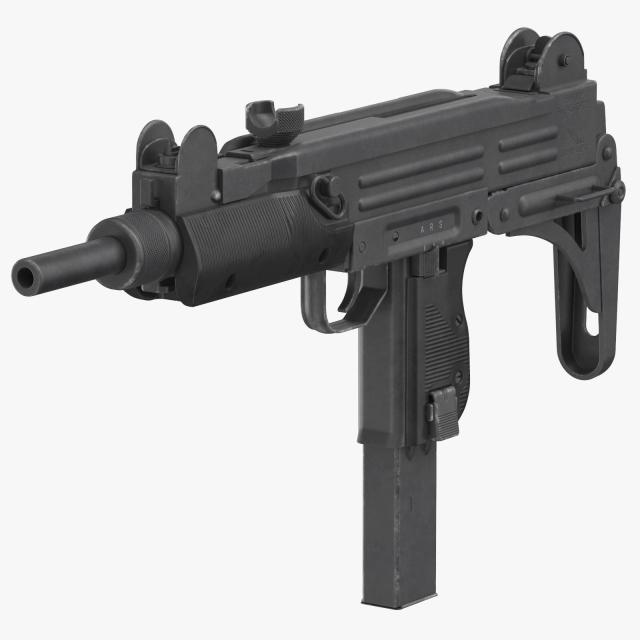SMG: (10, 28, 630, 613)
